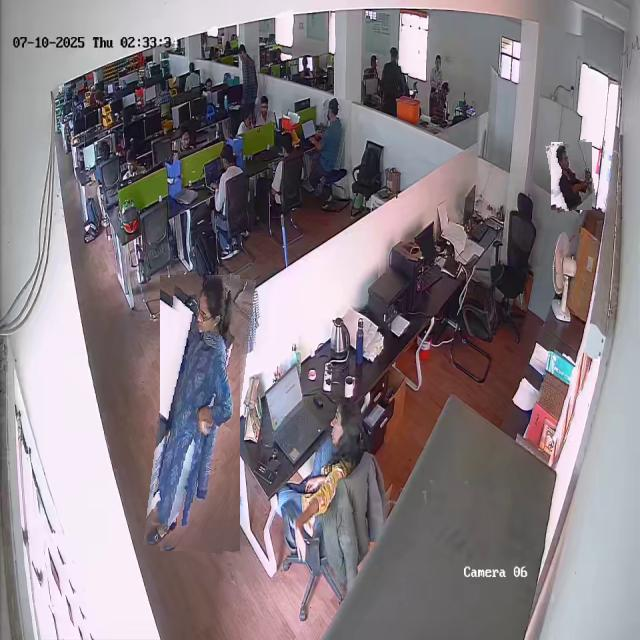person: (152, 273, 248, 553), (283, 397, 369, 513), (548, 140, 595, 212), (314, 97, 349, 175)
